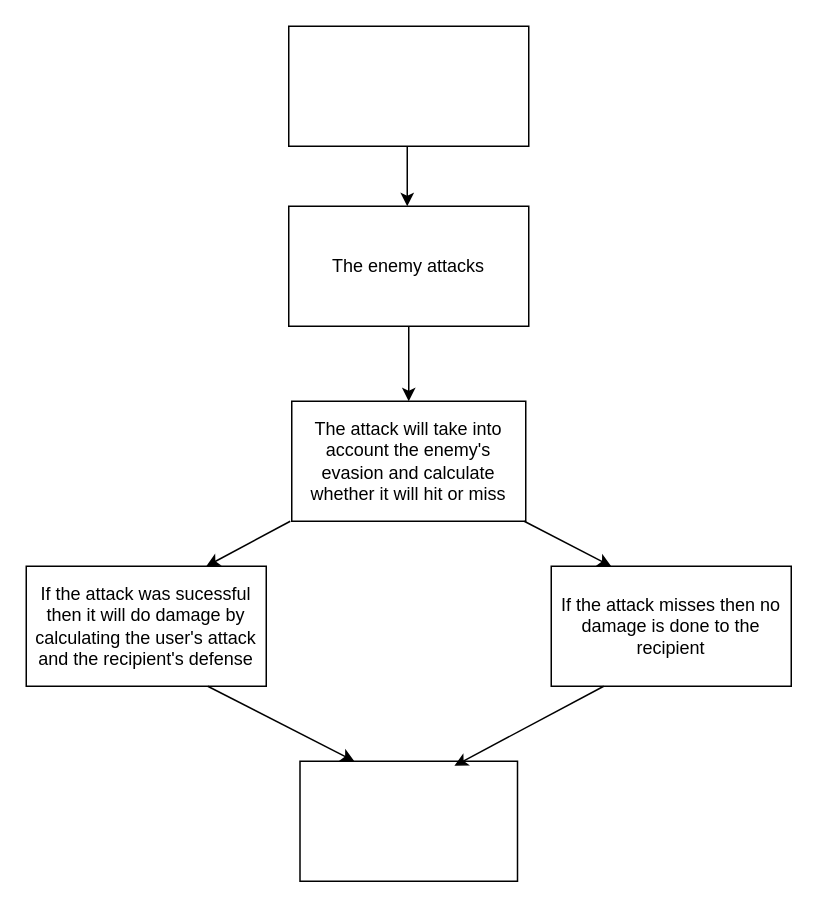
Some shapes in this 818 by 908 pixel diagram are drawn without their labels. The shapes that lost their labels are listed below. From the top down, each one's centre as x and y in pixels, then its label:
(408,85): The enemies turn begins
(408,820): The enemy's turn ends and goes back to the Player's turn
